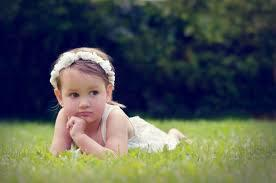child: (45, 46, 194, 157)
